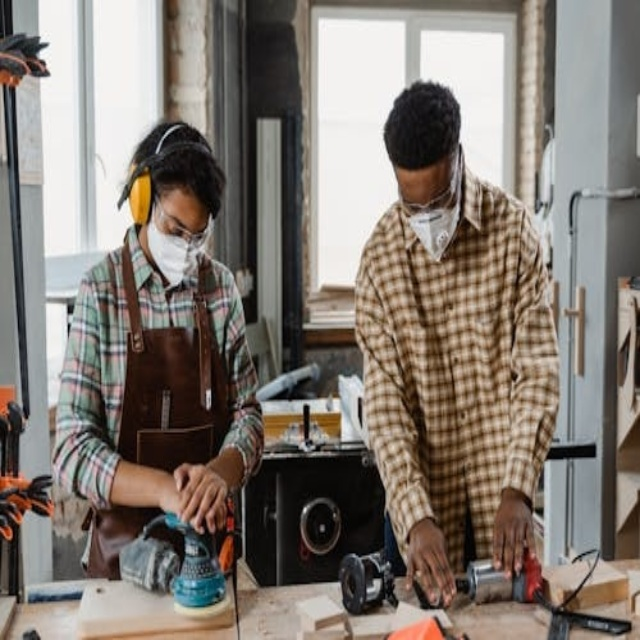Gafas: (399, 148, 460, 216), (155, 196, 213, 252)
Mascara: (401, 152, 463, 262), (146, 202, 210, 288)
Sin_guantes: (403, 518, 458, 605), (171, 459, 232, 526), (492, 489, 539, 573)
